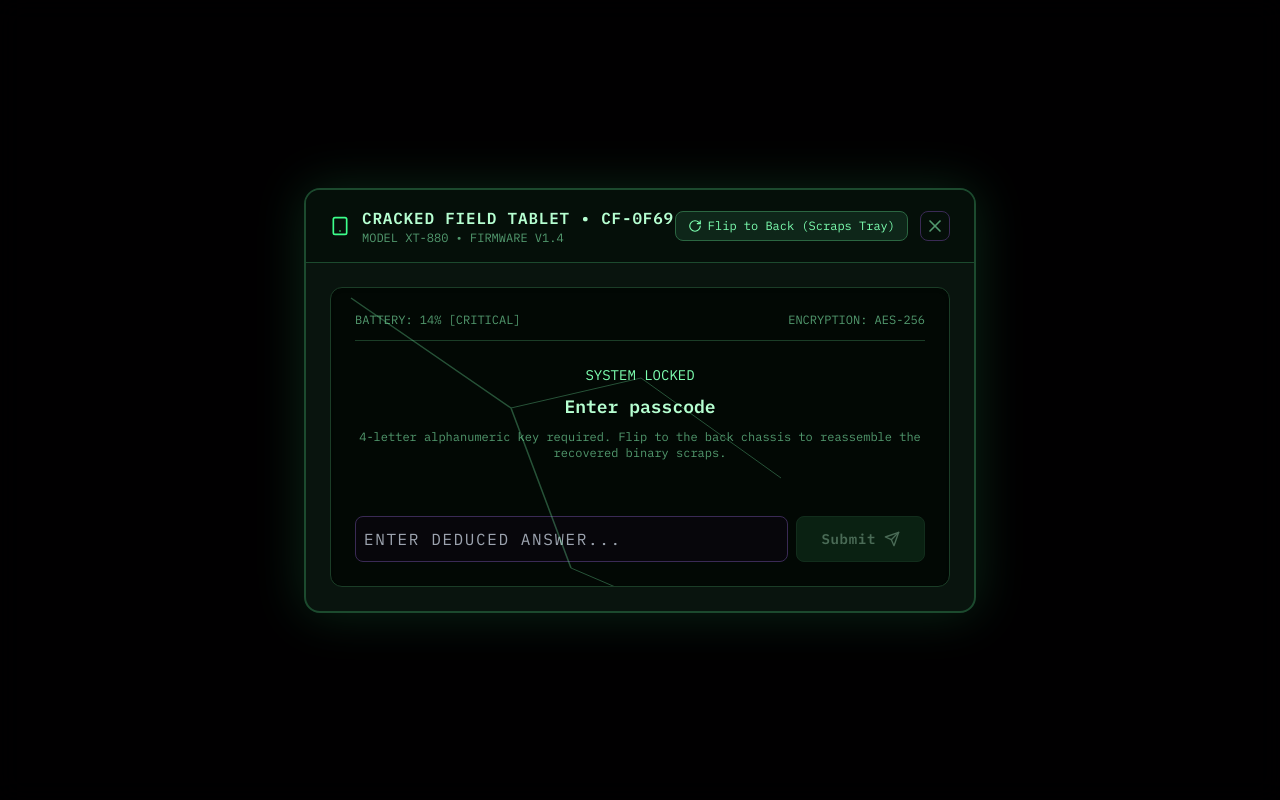
Test: Room 2 Frontend E2E & Combinatorics Test Suite › E2E-FE-04: Tablet modal features interactive scrap rearrangement tray
Click Flip button
Click the button "Flip to Back (Scraps Tray)" at (791, 226), box [675,210,908,240]
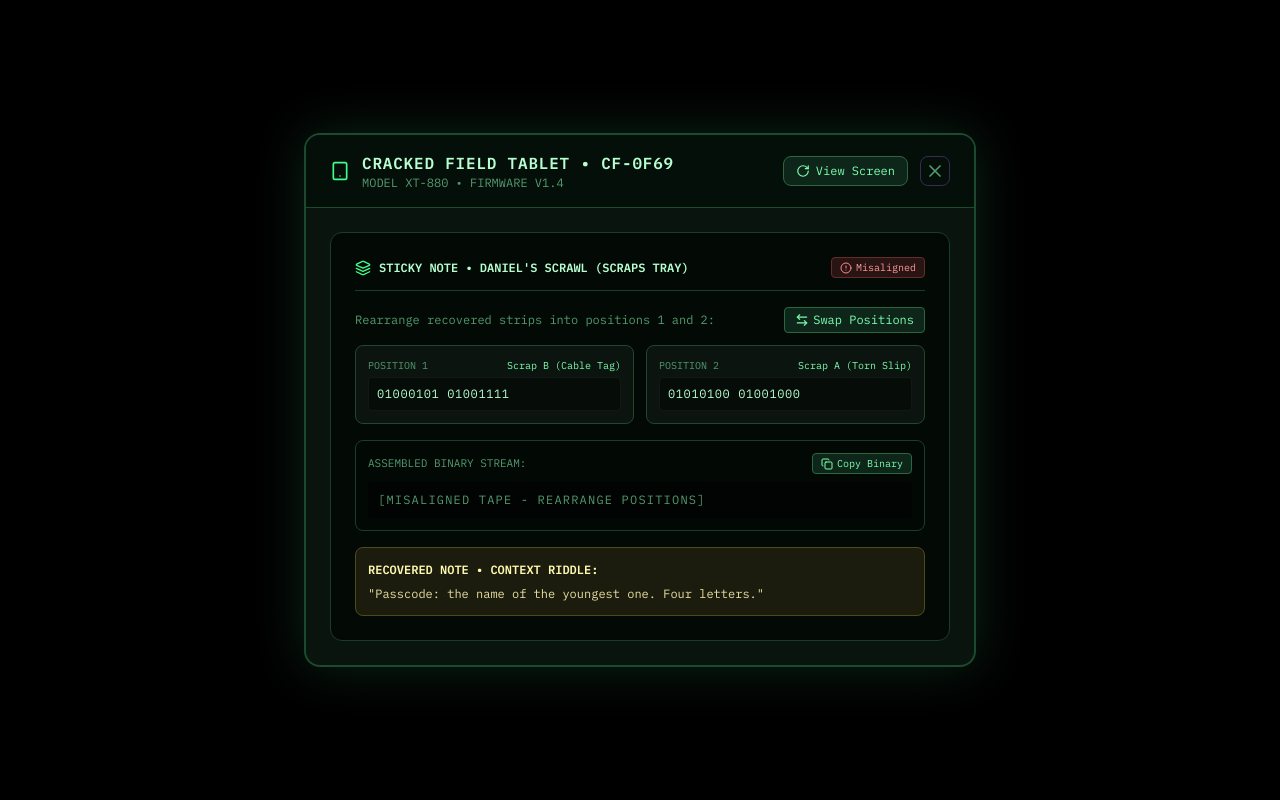
Check: the text "Misaligned" is shown, box [831,257,925,278]
Click Swap Positions button
Click the button "Swap Positions" at (855, 320), box [784,307,925,333]
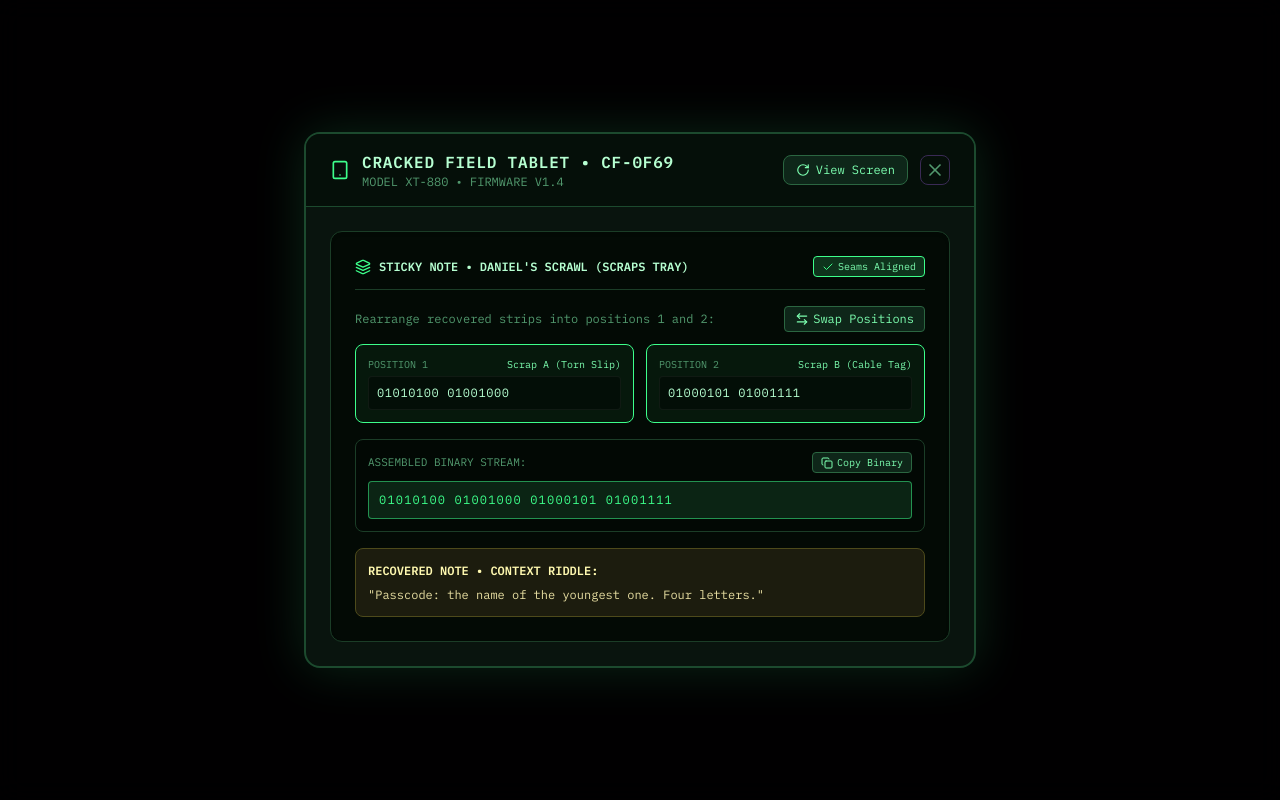
Check: the text "Seams Aligned" is shown, box [813,256,925,277]
